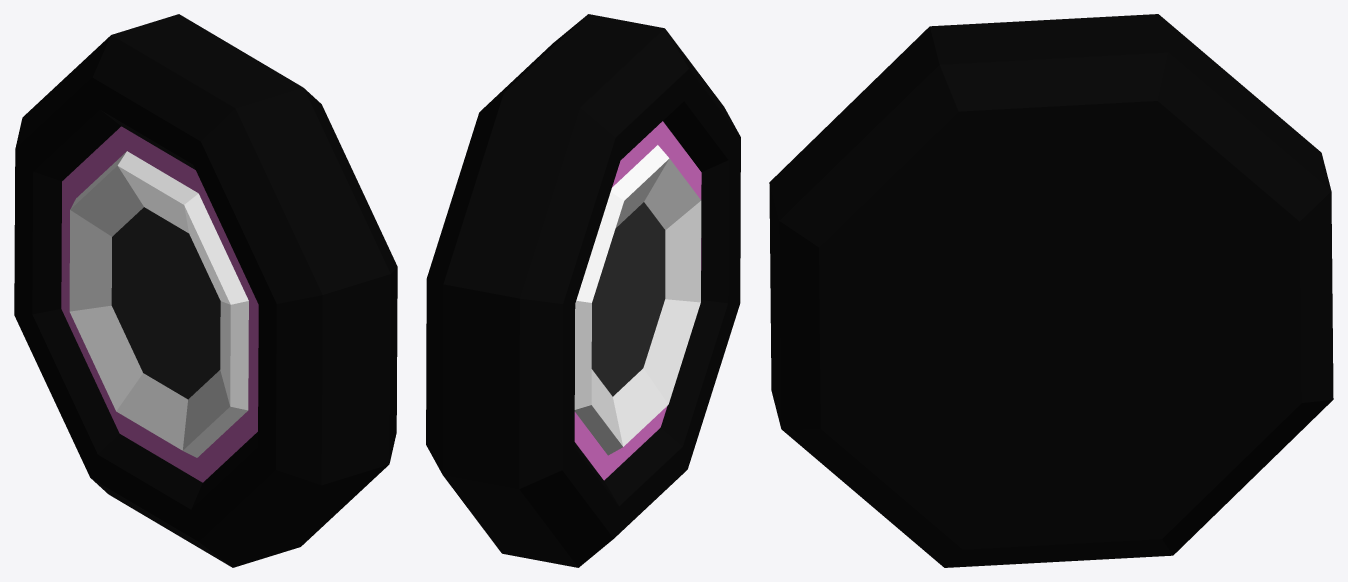
Rendered from TireMirror.fbx.
3 views of the same model, side by side, from view 1: azimuth 30°, elevation 25°; view 2: azimuth 150°, elevation 25°; view 3: azimuth 270°, elevation 25° (orthographic). The views are drawn at different scales.
Visible parts, largest first — view 1: LeftTire; view 2: LeftTire; view 3: LeftTire.
Boxes of the visible parts, x1=… form: LeftTire: x1=14, y1=14, x2=397, y2=567; LeftTire: x1=426, y1=14, x2=740, y2=567; LeftTire: x1=769, y1=14, x2=1333, y2=567.
Size of the model in its own units: 28.51 by 73.97 by 74.85.
